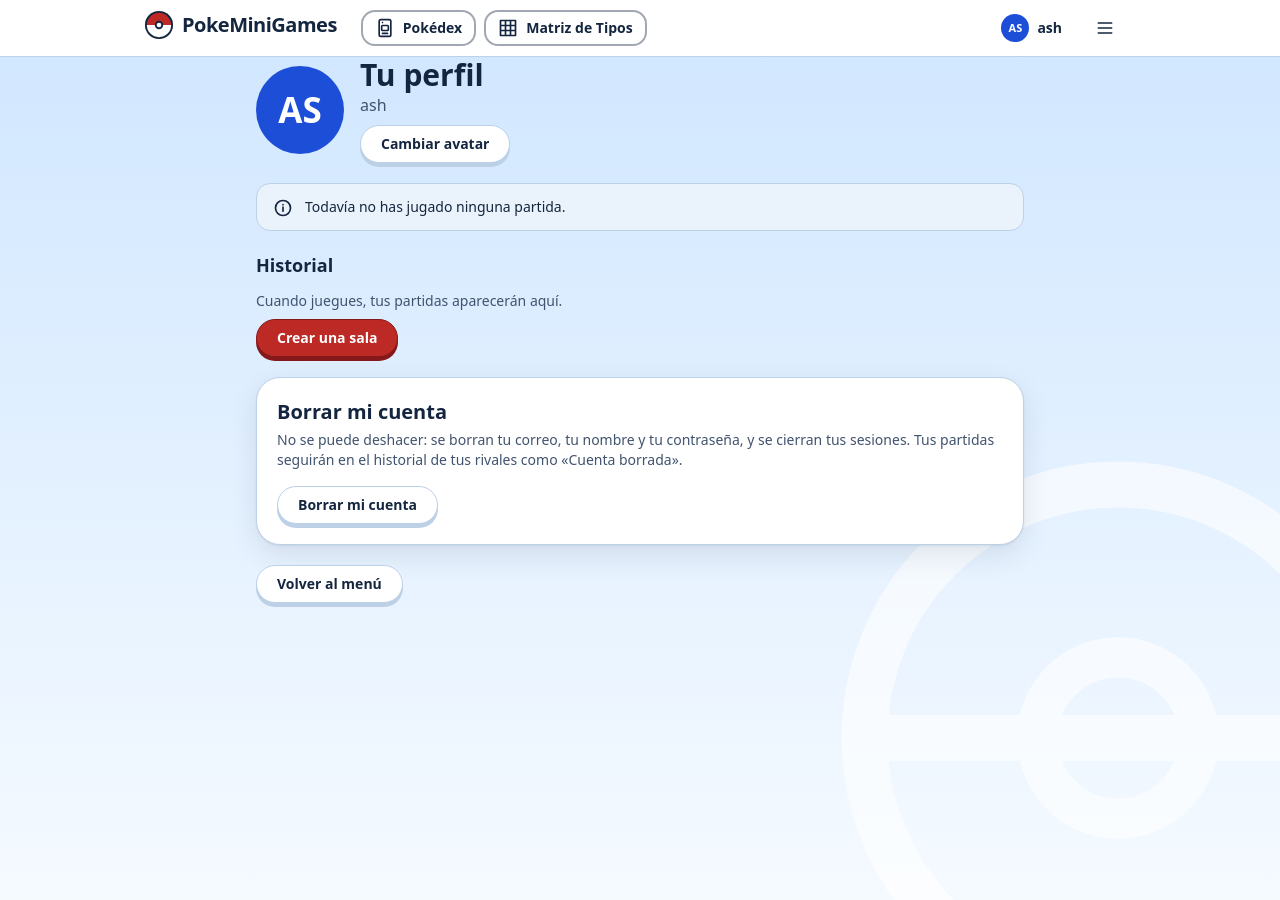
Test: la ventana «Elige tu avatar» › elegir guarda, cierra y actualiza el perfil y el encabezado
What coordinates should you click on to do the following:
click the button "Cambiar avatar"
I would click on:
 (435, 144)
Its box is top-left (360, 125), bottom-right (510, 163).
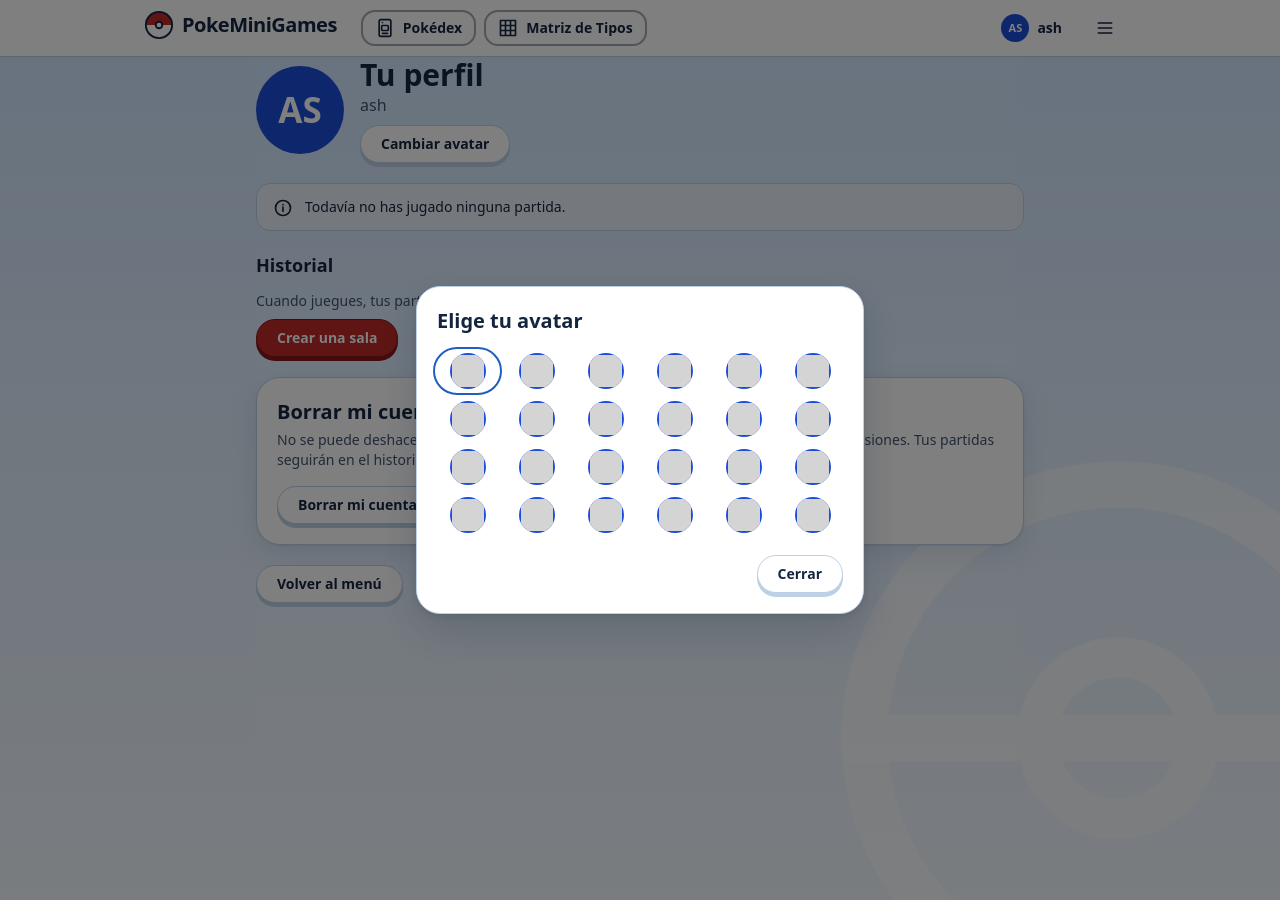
What coordinates should you click on to do the following:
click the 5th button named "Gengar"
I would click on:
 (744, 371)
Its box is top-left (713, 351), bottom-right (774, 391).
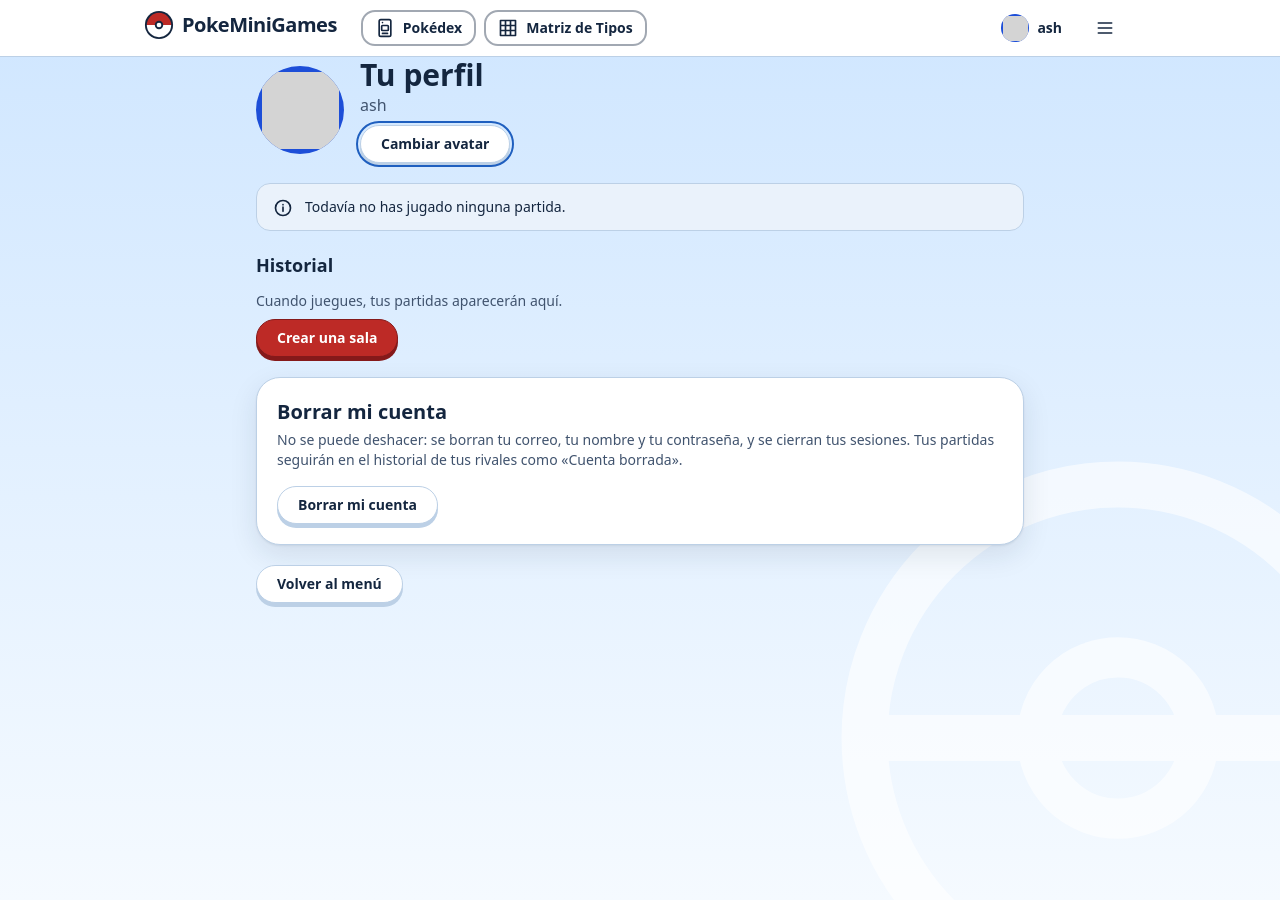
Expected: the dialog is gone
